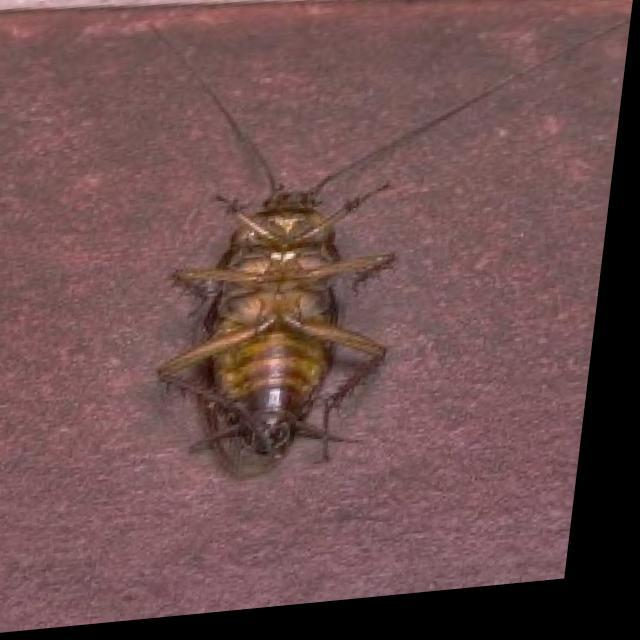cockroach: (149, 114, 445, 471)
